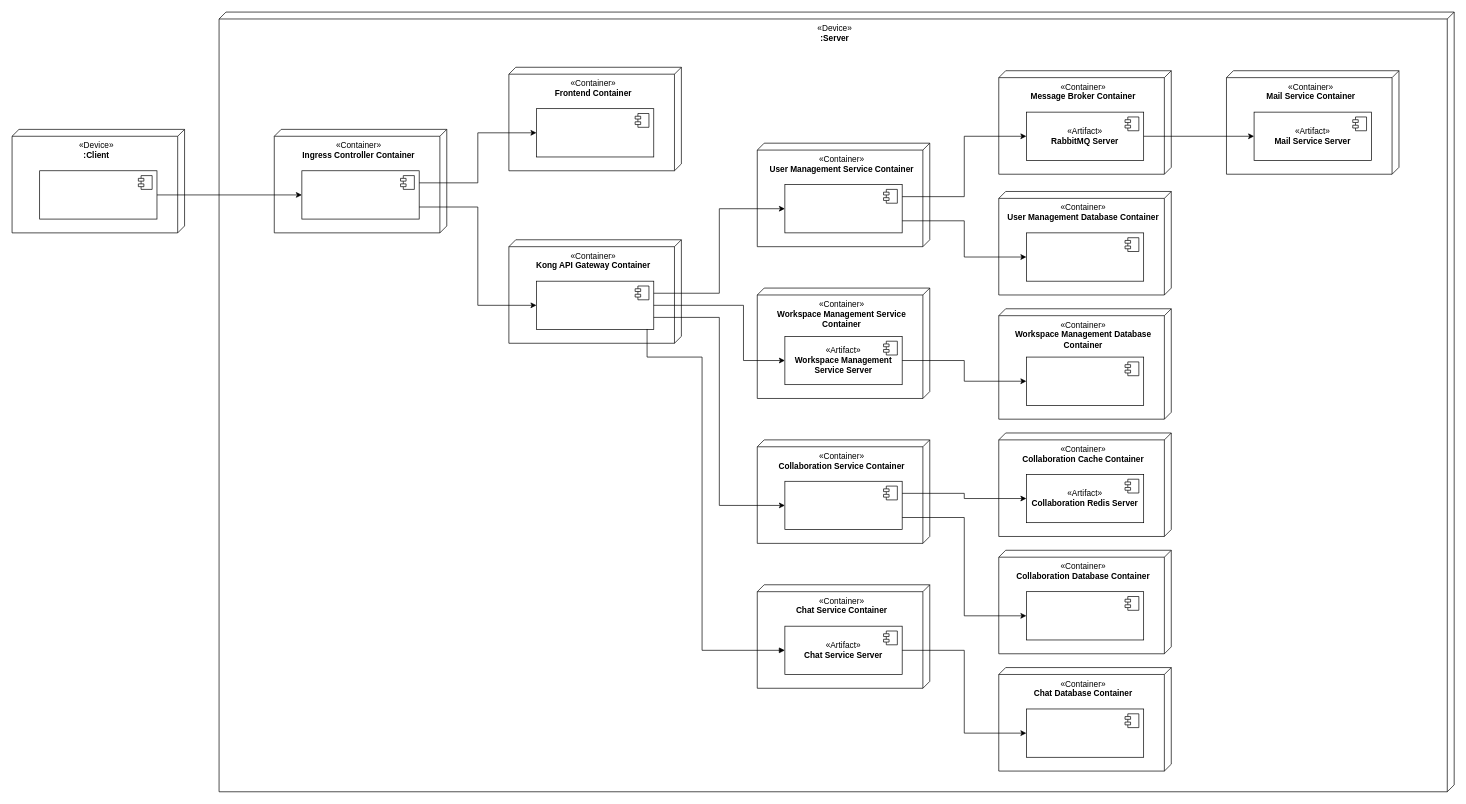
Image size: 1466x804. Some labels were removed from this diagram. The centre of each missing label's shape, as x and y in pixels:
«Artifact» Browser: the point at 98,194
«Artifact» Chat MongoDB Server: the point at 1085,732
«Artifact» Collaboration MongoDB Server: the point at 1085,615
«Artifact» Collaboration Service Server: the point at 843,505
«Artifact» Frontend Server: the point at 595,132
«Artifact» Kong API Gateway Server: the point at 595,304
«Artifact» NGINX Ingress: the point at 360,194
«Artifact» User Management PostgreSQL Server: the point at 1085,256
«Artifact» User Management Service Server: the point at 843,208
«Artifact» Workspace Management PostgreSQL Server: the point at 1085,380
